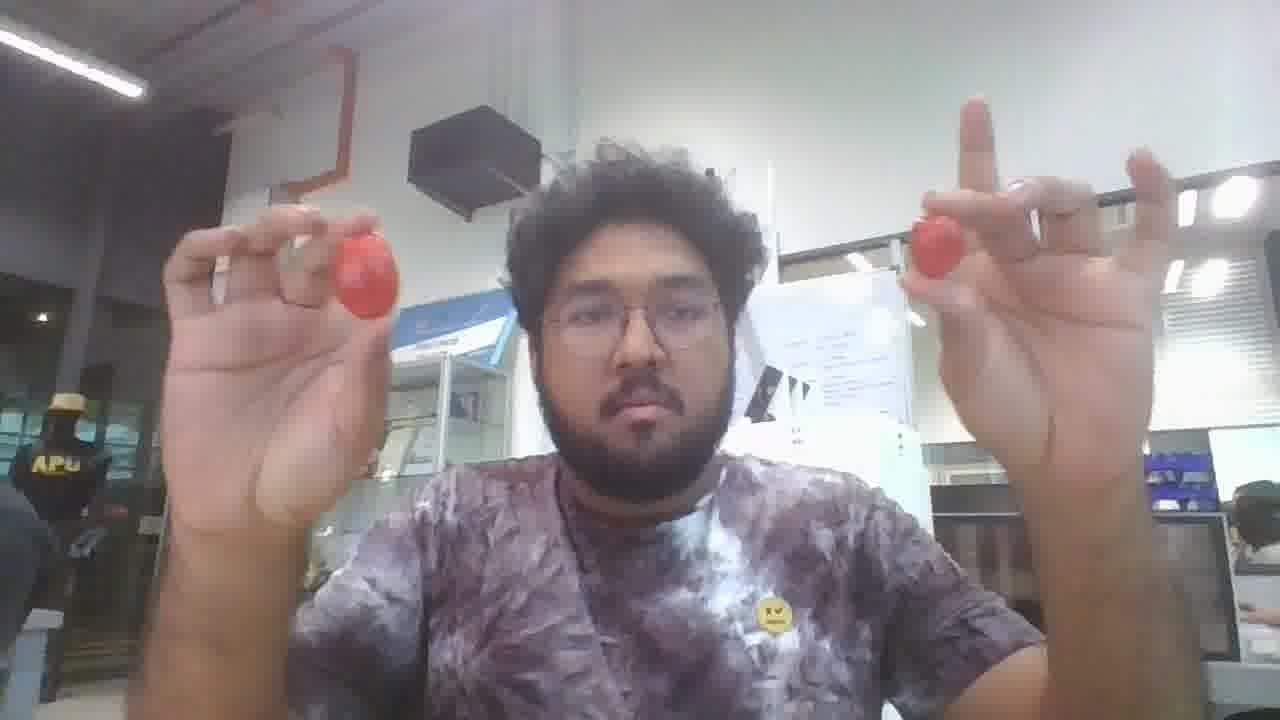red_cherry_tomato: (332, 232, 398, 318), (910, 216, 964, 277)
